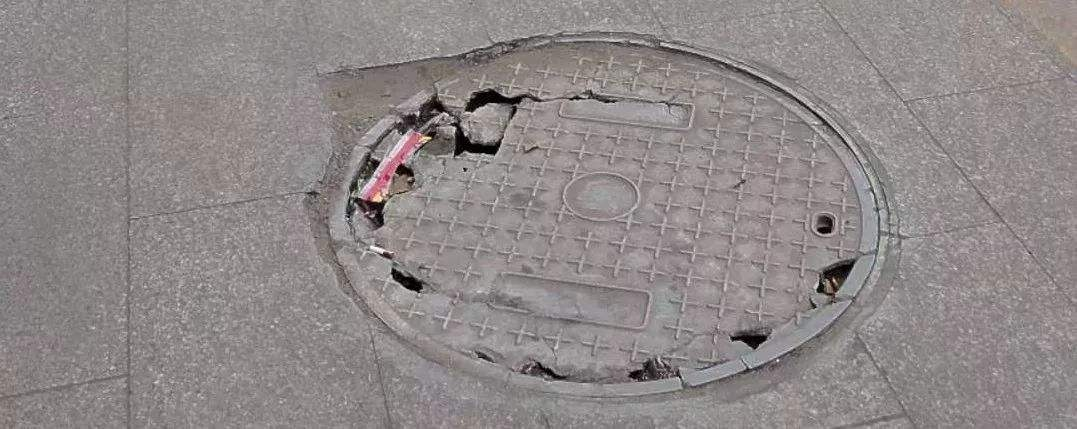broke: (321, 34, 890, 400)
